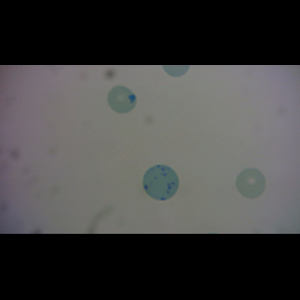aggregate reticulocyte: (142, 164, 179, 201)
erythrocyte: (235, 167, 266, 199), (106, 85, 137, 114)
